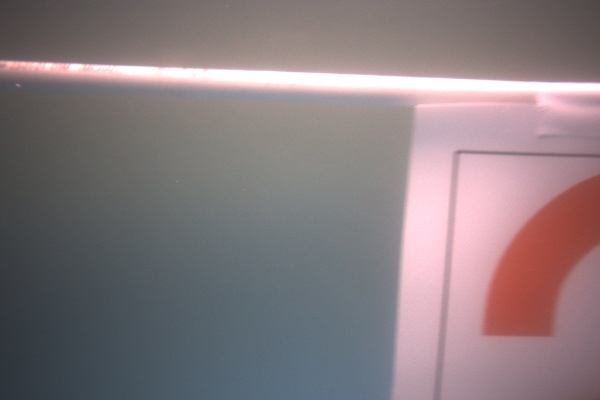gate: (112, 258, 600, 400)
gate_rouge: (312, 304, 458, 400)
